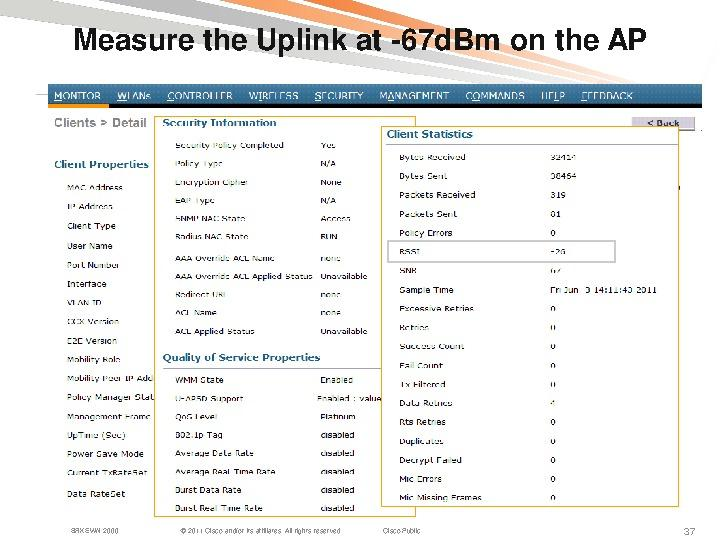paragraph: (47, 76, 713, 540)
title: (65, 10, 650, 68)
